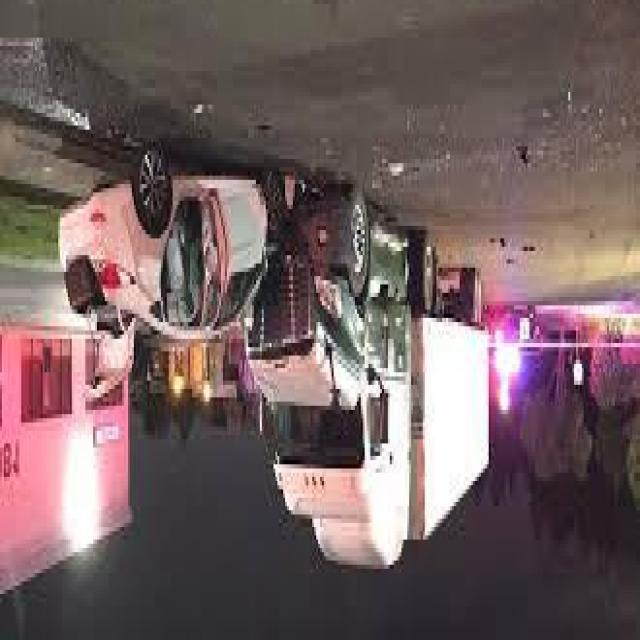severe: (48, 146, 494, 582)
